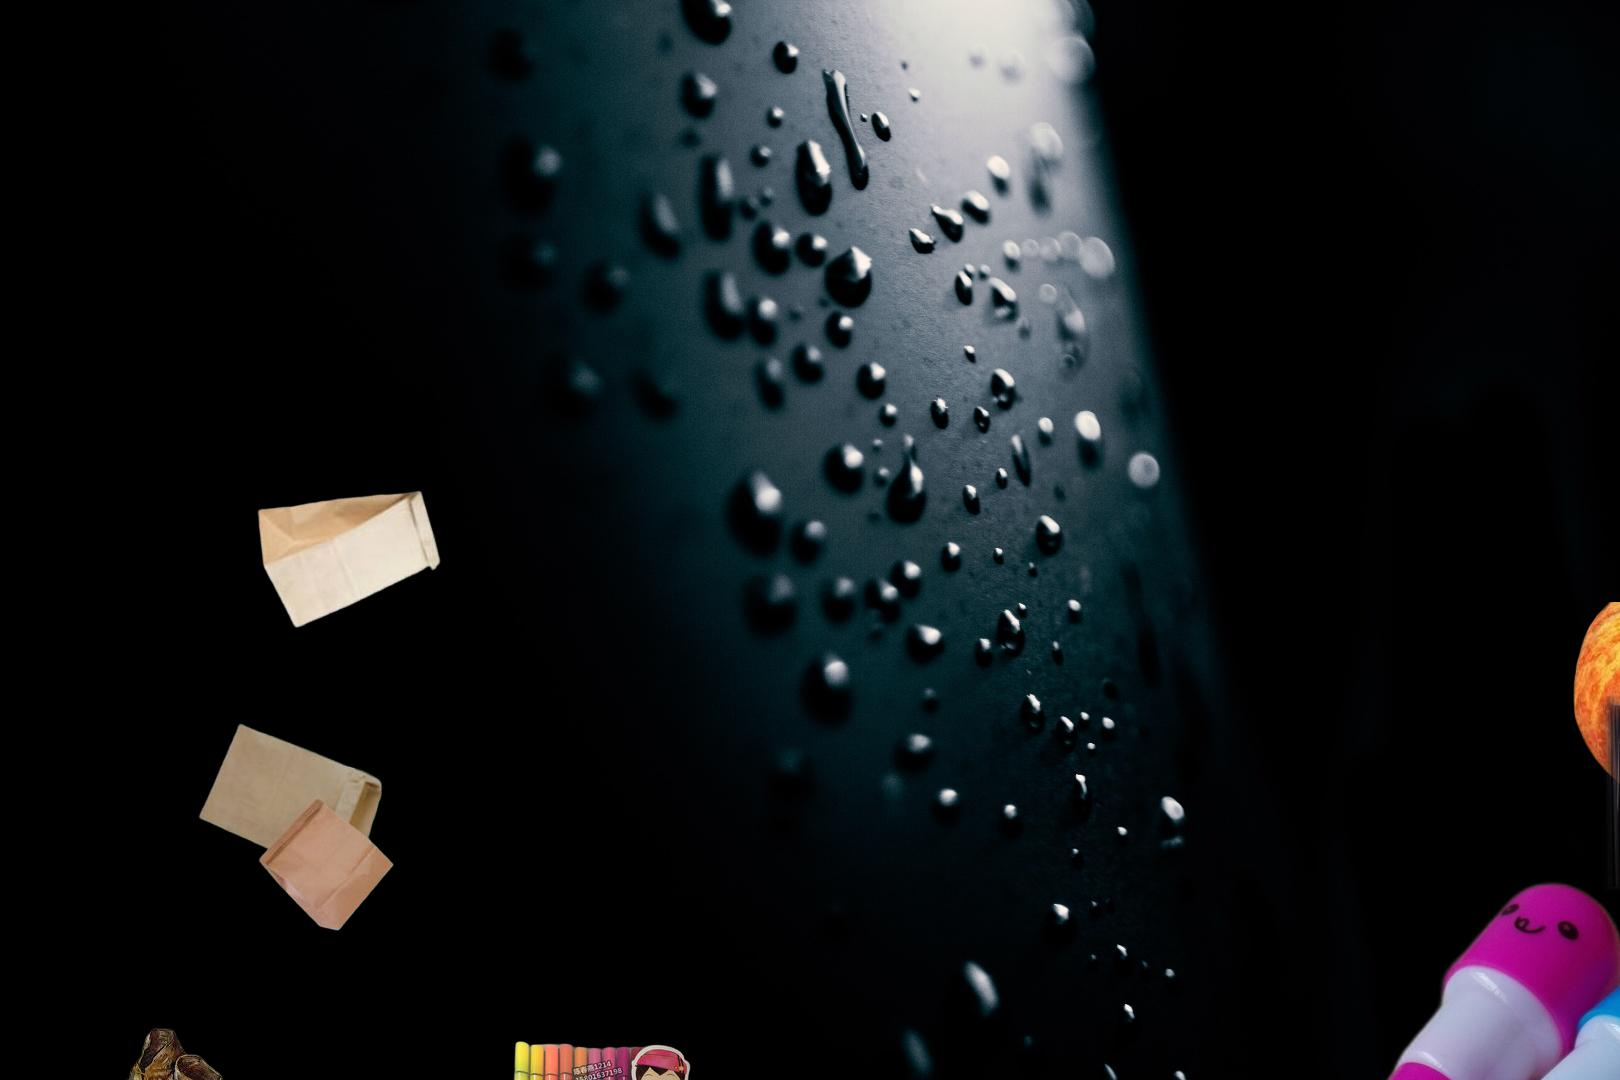biological: (1571, 601, 1620, 785)
paper-bag: (195, 720, 395, 934), (254, 487, 444, 630)
penholder: (1166, 874, 1620, 1080), (1507, 624, 1620, 1080), (504, 1038, 783, 1080)
shoes: (108, 1025, 316, 1080)
